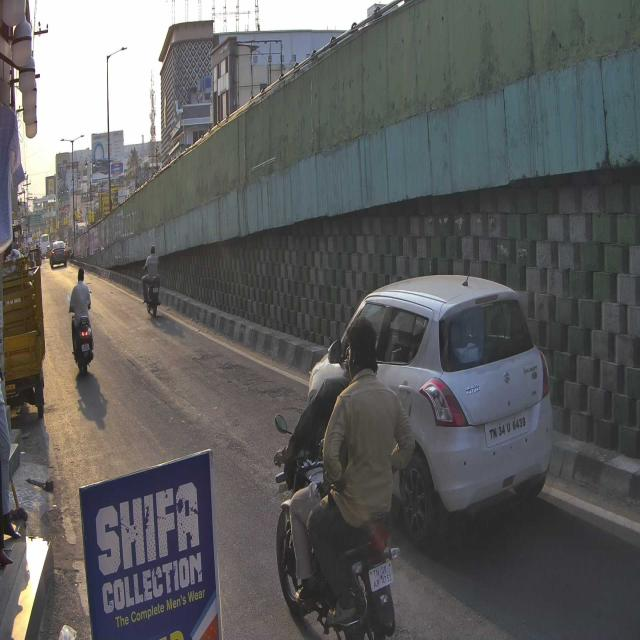double_rider: (273, 310, 408, 640)
